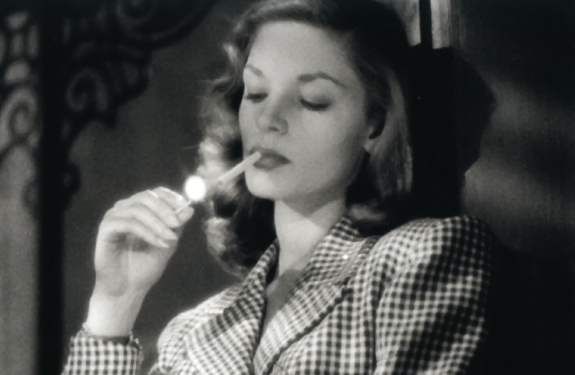cigarette: (204, 146, 264, 189)
